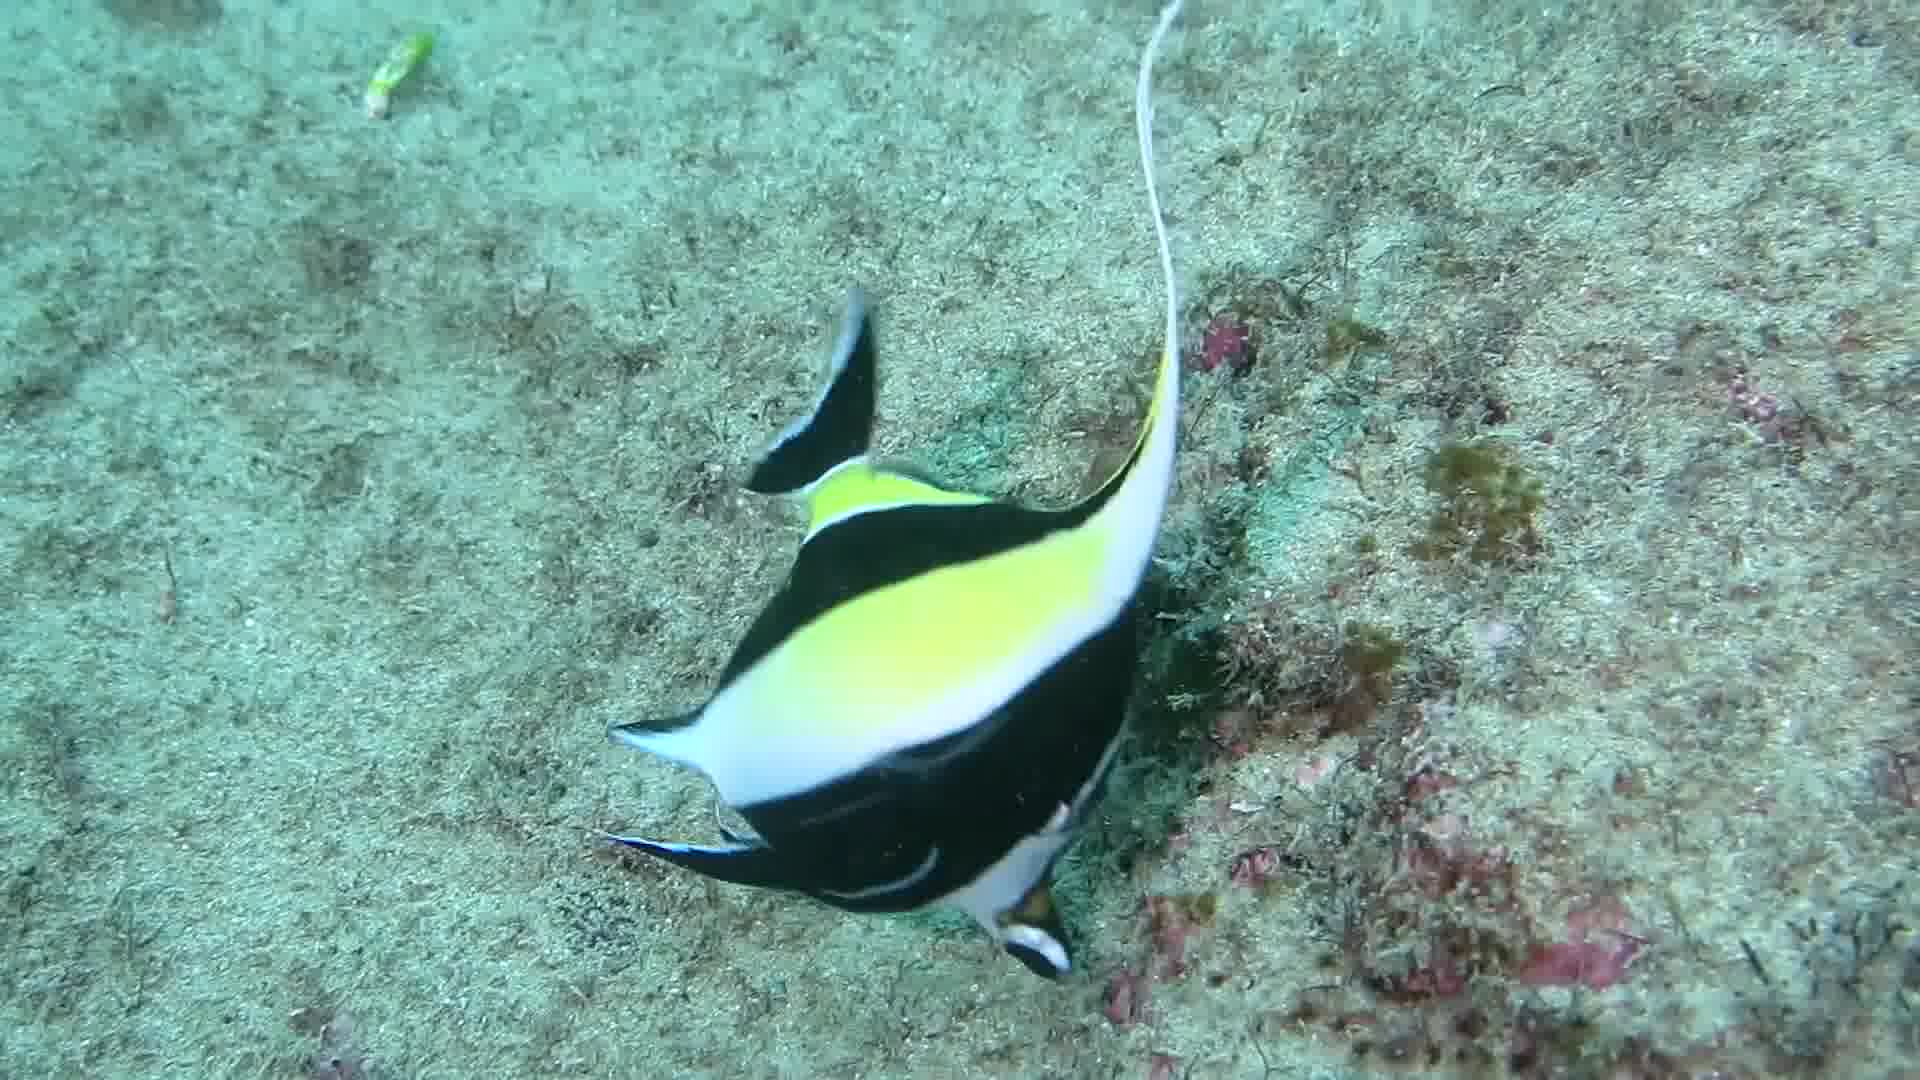Zanclus cornutus: (559, 349, 1324, 975)
